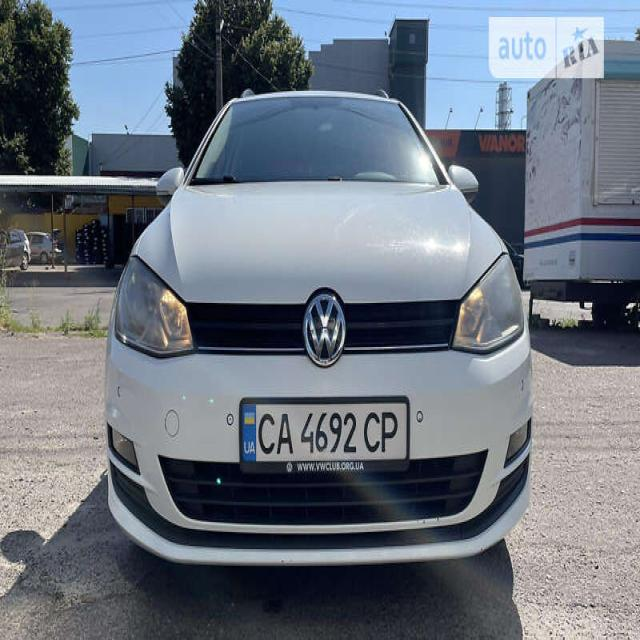plate: (238, 393, 411, 473)
